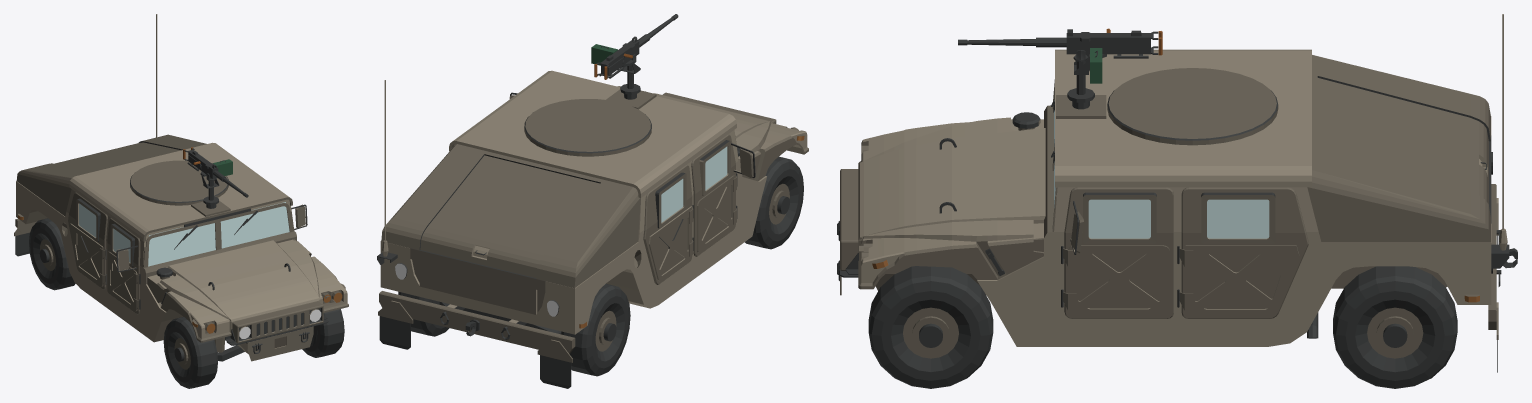
Rendered from humvee.glb.
The picture shows the model from 3 angles, left to right: view 1: azimuth 30°, elevation 25°; view 2: azimuth 150°, elevation 25°; view 3: azimuth 270°, elevation 25°; orthographic projection. The views are drawn at different scales.
Visible parts, largest first — view 1: Humvee.091; view 2: Humvee.091; view 3: Humvee.091.
Part boxes in pixels (x1,y1,x2,y2): Humvee.091: [14, 14, 348, 388]; Humvee.091: [377, 14, 808, 388]; Humvee.091: [837, 14, 1517, 388].
Bounding box in the file's own units: 2.74 × 2.99 × 4.94.
